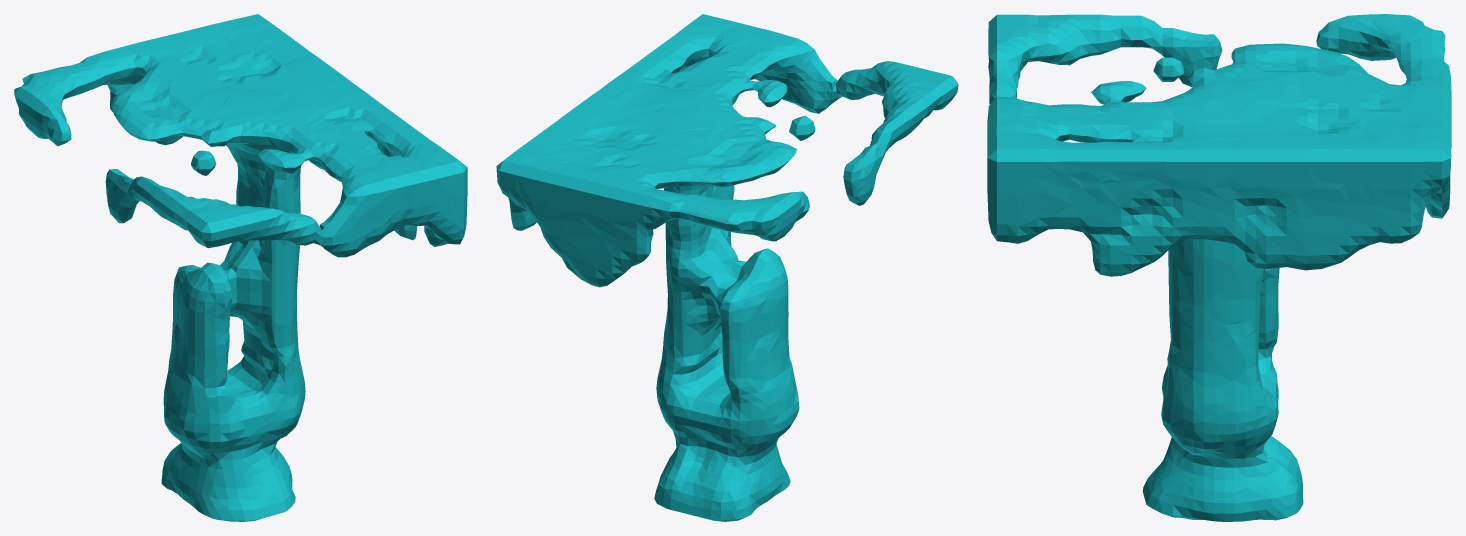
3 renders of one model, left to right at view 1: azimuth 30°, elevation 25°; view 2: azimuth 150°, elevation 25°; view 3: azimuth 270°, elevation 25°, orthographic. The views are drawn at different scales.
Parts seen in each view (by area): view 1: Liquid_Domain; view 2: Liquid_Domain; view 3: Liquid_Domain.
Part boxes in pixels (box(x1,y1,x2,y2)): Liquid_Domain: box(14, 14, 467, 521); Liquid_Domain: box(496, 14, 958, 521); Liquid_Domain: box(987, 14, 1451, 521).
Size of the model in its own units: 78.98 by 108 by 108.
